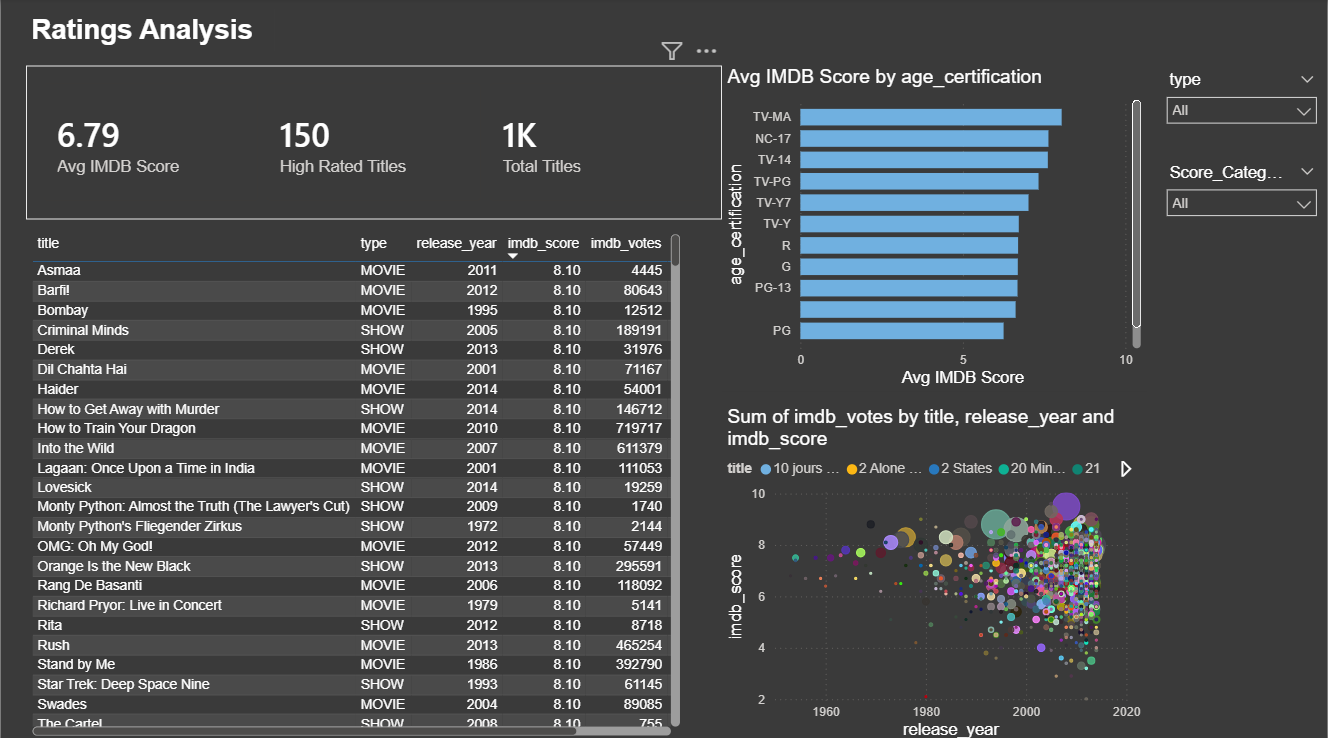

The dashboard page shown, as its layout file describes it:
{"tool":"powerbi","page":{"name":"Ratings Analysis","canvas":[1280,720],"ordinal":1},"visuals":[{"type":"tableEx","fields":{"Values":["netflix_clean.title","netflix_clean.type","netflix_clean.release_year","netflix_clean.imdb_score","netflix_clean.imdb_votes","netflix_clean.age_certification"]},"box":[24.5,213.4,636.1,493.4],"z":0},{"type":"scatterChart","fields":{"X":["netflix_clean.release_year"],"Y":["netflix_clean.imdb_score"],"Size":["Sum(netflix_clean.imdb_votes)"],"Series":["netflix_clean.title"]},"box":[695.7,393.7,409.3,326],"z":1000},{"type":"cardVisual","fields":{"Data":["netflix_clean.Avg IMDB Score","netflix_clean.High Rated Titles","netflix_clean.Total Titles"]},"box":[24,64.9,671.8,148.2],"z":2000},{"type":"textbox","box":[24,11.3,239.9,40.9],"z":3000},{"type":"clusteredBarChart","fields":{"Category":["netflix_clean.age_certification"],"Y":["netflix_clean.Avg IMDB Score"]},"box":[695.7,64.9,409.3,314.7],"z":4000},{"type":"slicer","fields":{"Values":["netflix_clean.type"]},"box":[1114.9,64.9,165.1,74.8],"z":5000},{"type":"slicer","fields":{"Values":["netflix_clean.Score_Category"]},"box":[1114.9,153.8,165.1,69.2],"z":6000}]}

Visuals, with their boxes in screenshot pixels (x1, y1, x2, y2), scaled from the page's 1280x720 canvas onto the 1328x738 screenshot:
tableEx - netflix_clean.title x netflix_clean.type: box=[25, 219, 685, 724]
scatterChart - netflix_clean.release_year x netflix_clean.imdb_score: box=[722, 404, 1146, 737]
cardVisual - netflix_clean.Avg IMDB Score x netflix_clean.High Rated Titles: box=[25, 67, 722, 218]
textbox: box=[25, 12, 274, 54]
clusteredBarChart - netflix_clean.age_certification x netflix_clean.Avg IMDB Score: box=[722, 67, 1146, 389]
slicer - netflix_clean.type: box=[1157, 67, 1327, 143]
slicer - netflix_clean.Score_Category: box=[1157, 158, 1327, 229]
